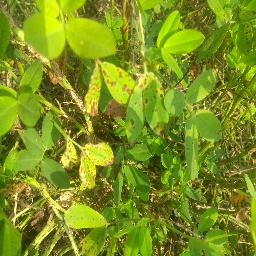GroundNut_Leaf: (67, 18, 117, 58), (22, 15, 64, 60), (140, 73, 167, 136), (97, 63, 138, 102), (186, 68, 219, 105), (163, 28, 206, 56), (64, 204, 109, 230), (123, 163, 151, 201), (40, 159, 71, 189), (193, 110, 223, 140), (84, 139, 113, 167), (18, 91, 41, 126), (1, 217, 21, 255), (233, 23, 254, 56), (122, 144, 155, 161), (21, 130, 44, 154), (198, 206, 219, 232), (22, 64, 42, 91)
